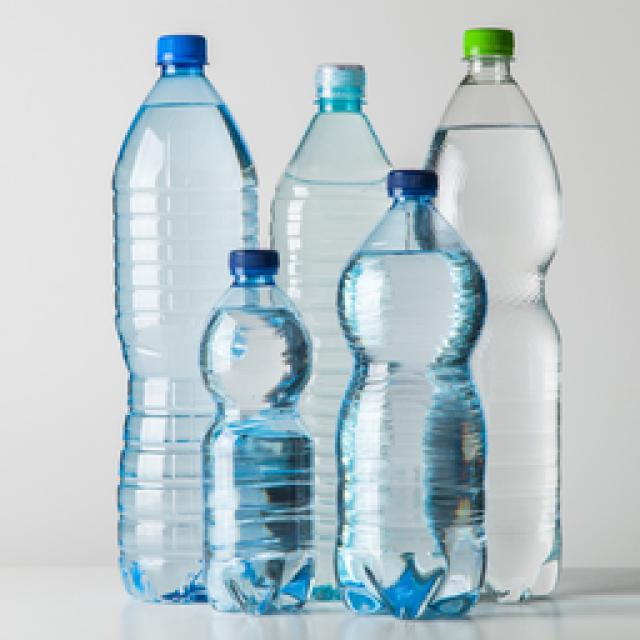plastic_water_bottles: (437, 12, 573, 608), (338, 170, 485, 612), (108, 25, 200, 603), (203, 238, 317, 617), (277, 48, 383, 222)
